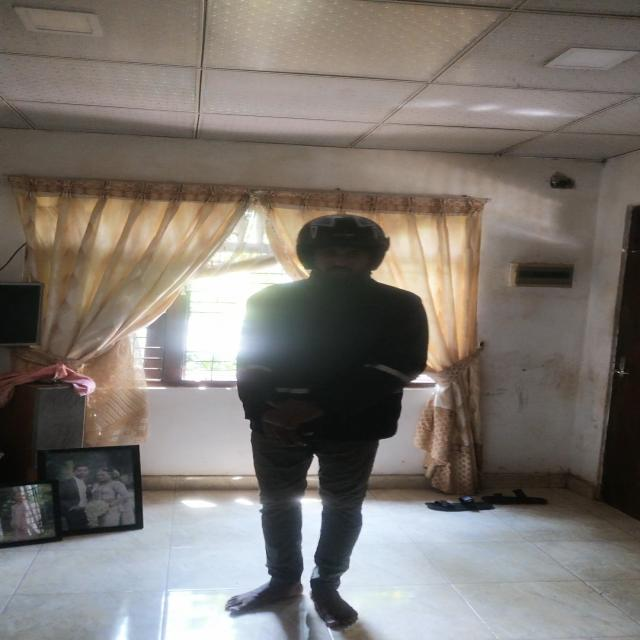Helmet_Wearer: (282, 208, 389, 294)
Jacket_Wearer: (246, 273, 437, 456)
Person: (233, 217, 440, 635)
